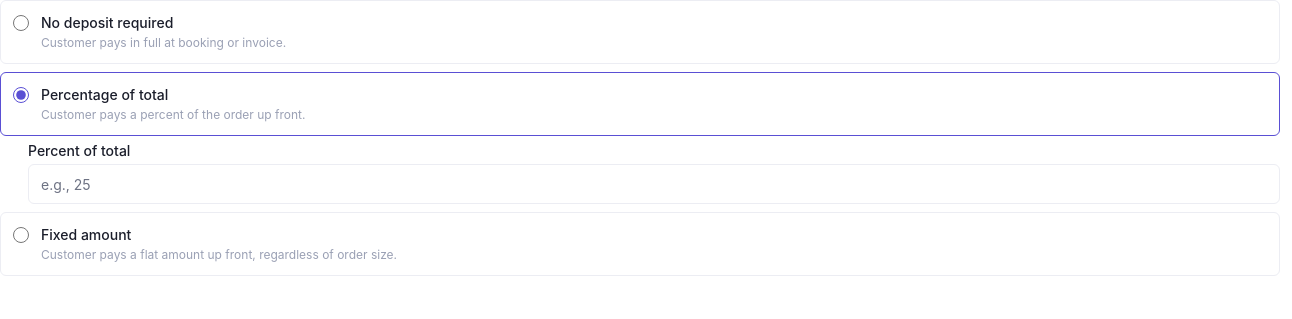
Test: DepositPolicyEditor — Decision 3 validation › Percentage: rejects 0 with inline error
Type "0" into the field labelled "Percent of total". click: (654, 184)
box: [28,164,1280,204]
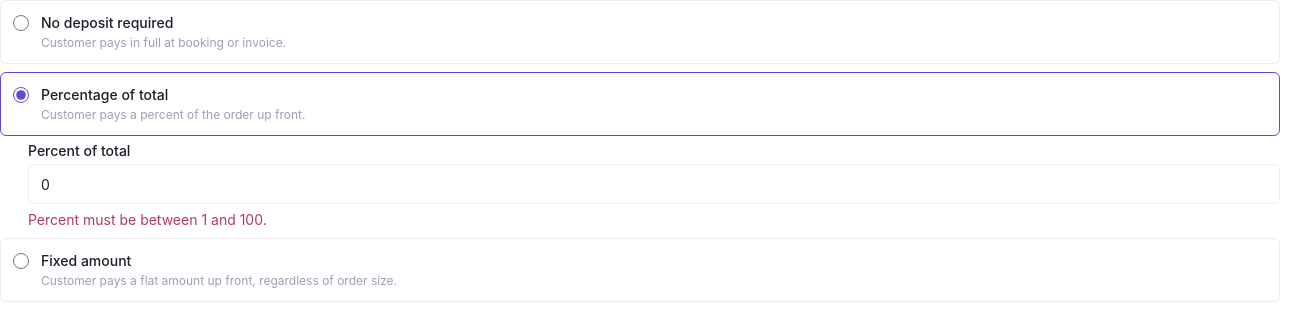
Now the message shows "between 1 and 100", box [28,211,267,228]
